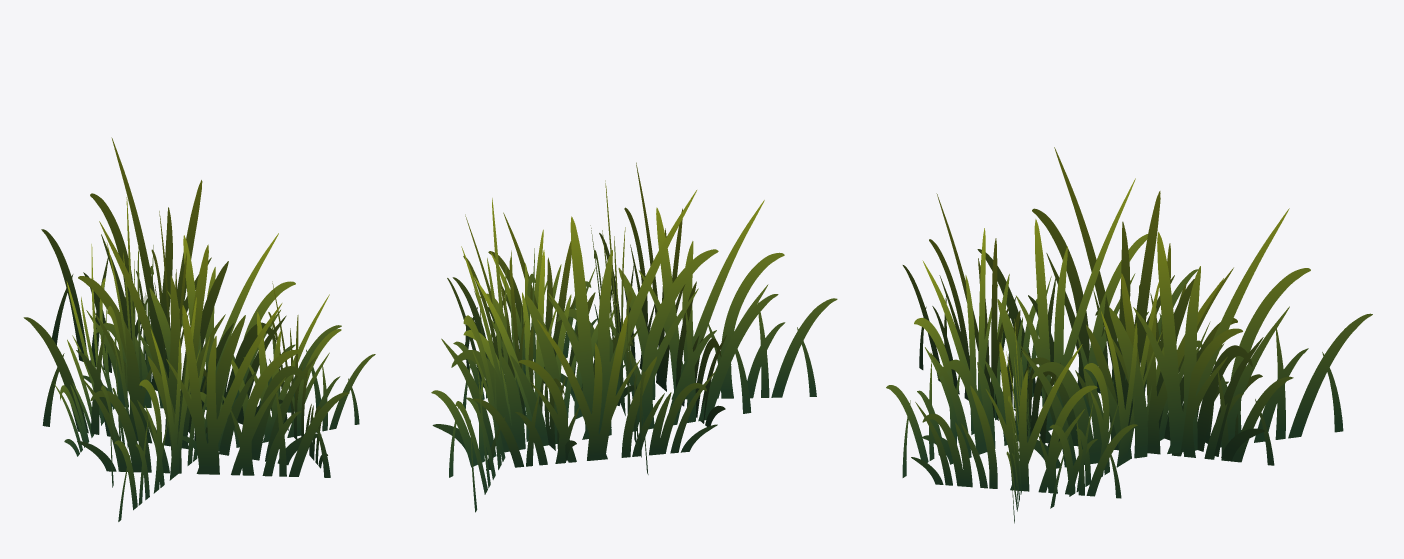
File: low_grass_04.gltf
The picture shows the model from 3 angles, left to right: view 1: azimuth 30°, elevation 25°; view 2: azimuth 150°, elevation 25°; view 3: azimuth 270°, elevation 25°; orthographic projection. The views are drawn at different scales.
Visible parts, largest first — view 1: default; view 2: default; view 3: default.
Part boxes in pixels (x1=…): default: x1=23, y1=137, x2=375, y2=521; default: x1=431, y1=162, x2=837, y2=512; default: x1=886, y1=147, x2=1372, y2=523.
Size of the model in its own units: 0.8227 by 0.8109 by 1.04.
Materials: 1 (1 with a texture image).
